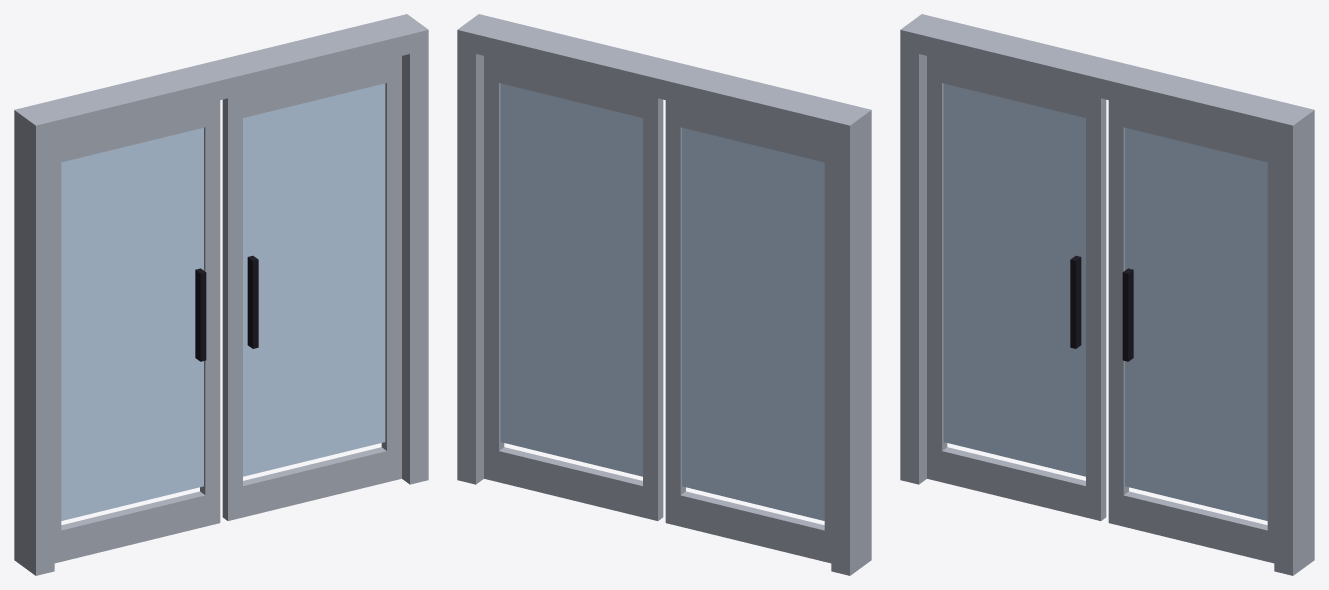
File: porta_doppia.glb
3 views of the same model, side by side, from view 1: azimuth 30°, elevation 25°; view 2: azimuth 150°, elevation 25°; view 3: azimuth 330°, elevation 25° (orthographic).
Visible parts, largest first — view 1: vetro, vetro.001, stipite, traversa, stipite.001, telaio.007, telaio.006, telaio.003, telaio.004, telaio, telaio.001, telaio.005 (+3 smaller); view 2: vetro.001, vetro, stipite, traversa, stipite.001, telaio.007, telaio.003, telaio.006, telaio.004, telaio, telaio.005, telaio.001 (+1 smaller); view 3: vetro.001, vetro, stipite.001, traversa, stipite, telaio.003, telaio.007, telaio.002, telaio, telaio.004, telaio.001, telaio.005 (+3 smaller).
Boxes of the visible parts, x1=… form: vetro: x1=61, y1=127, x2=203, y2=520; vetro.001: x1=243, y1=83, x2=385, y2=476; stipite: x1=14, y1=130, x2=54, y2=575; traversa: x1=14, y1=14, x2=428, y2=144; stipite.001: x1=402, y1=49, x2=428, y2=484; telaio.007: x1=222, y1=97, x2=242, y2=520; telaio.006: x1=381, y1=56, x2=401, y2=480; telaio.003: x1=200, y1=100, x2=220, y2=526; telaio.004: x1=222, y1=447, x2=401, y2=520; telaio: x1=54, y1=491, x2=219, y2=563; telaio.001: x1=54, y1=100, x2=220, y2=163; telaio.005: x1=222, y1=59, x2=386, y2=121; vetro.001: x1=500, y1=83, x2=642, y2=476; vetro: x1=682, y1=127, x2=824, y2=520; stipite: x1=831, y1=130, x2=871, y2=575; traversa: x1=457, y1=14, x2=871, y2=144; stipite.001: x1=457, y1=49, x2=483, y2=484; telaio.007: x1=643, y1=95, x2=663, y2=520; telaio.003: x1=665, y1=100, x2=685, y2=526; telaio.006: x1=484, y1=56, x2=504, y2=480; telaio.004: x1=484, y1=447, x2=663, y2=520; telaio: x1=665, y1=491, x2=831, y2=563; telaio.005: x1=484, y1=56, x2=663, y2=121; telaio.001: x1=665, y1=100, x2=831, y2=163; vetro.001: x1=1125, y1=127, x2=1267, y2=520; vetro: x1=943, y1=83, x2=1085, y2=476; stipite.001: x1=1274, y1=130, x2=1314, y2=575; traversa: x1=900, y1=14, x2=1314, y2=144; stipite: x1=900, y1=49, x2=926, y2=484; telaio.003: x1=1086, y1=95, x2=1106, y2=520; telaio.007: x1=1108, y1=100, x2=1128, y2=526; telaio.002: x1=927, y1=56, x2=947, y2=480; telaio: x1=927, y1=447, x2=1106, y2=520; telaio.004: x1=1108, y1=491, x2=1274, y2=563; telaio.001: x1=927, y1=56, x2=1106, y2=121; telaio.005: x1=1108, y1=100, x2=1274, y2=163.
Bounding box in the file's own units: 2.1 × 2.3 × 0.2.
